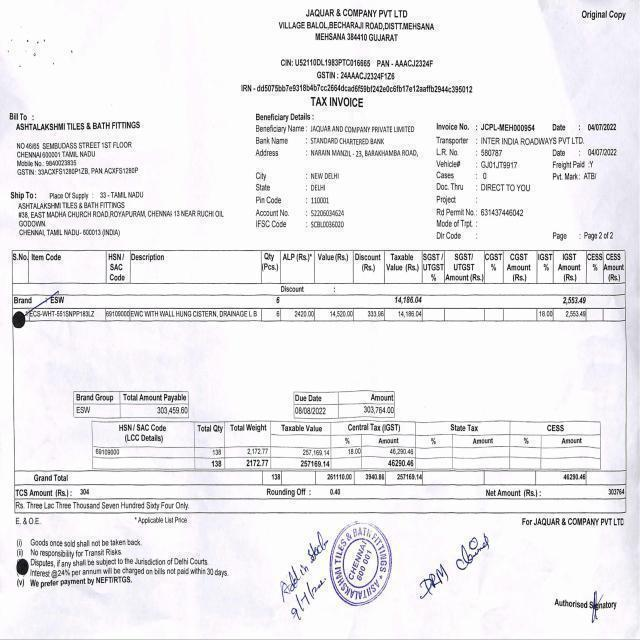paragraph: (431, 115, 621, 241), (274, 516, 494, 624), (9, 514, 239, 616), (251, 109, 424, 236), (7, 102, 171, 179), (3, 185, 233, 238), (228, 51, 486, 96), (235, 1, 463, 47), (537, 577, 623, 634), (574, 2, 632, 27), (517, 516, 625, 528), (306, 97, 366, 110)
table: (5, 242, 636, 334), (9, 470, 626, 514), (85, 418, 605, 469)
